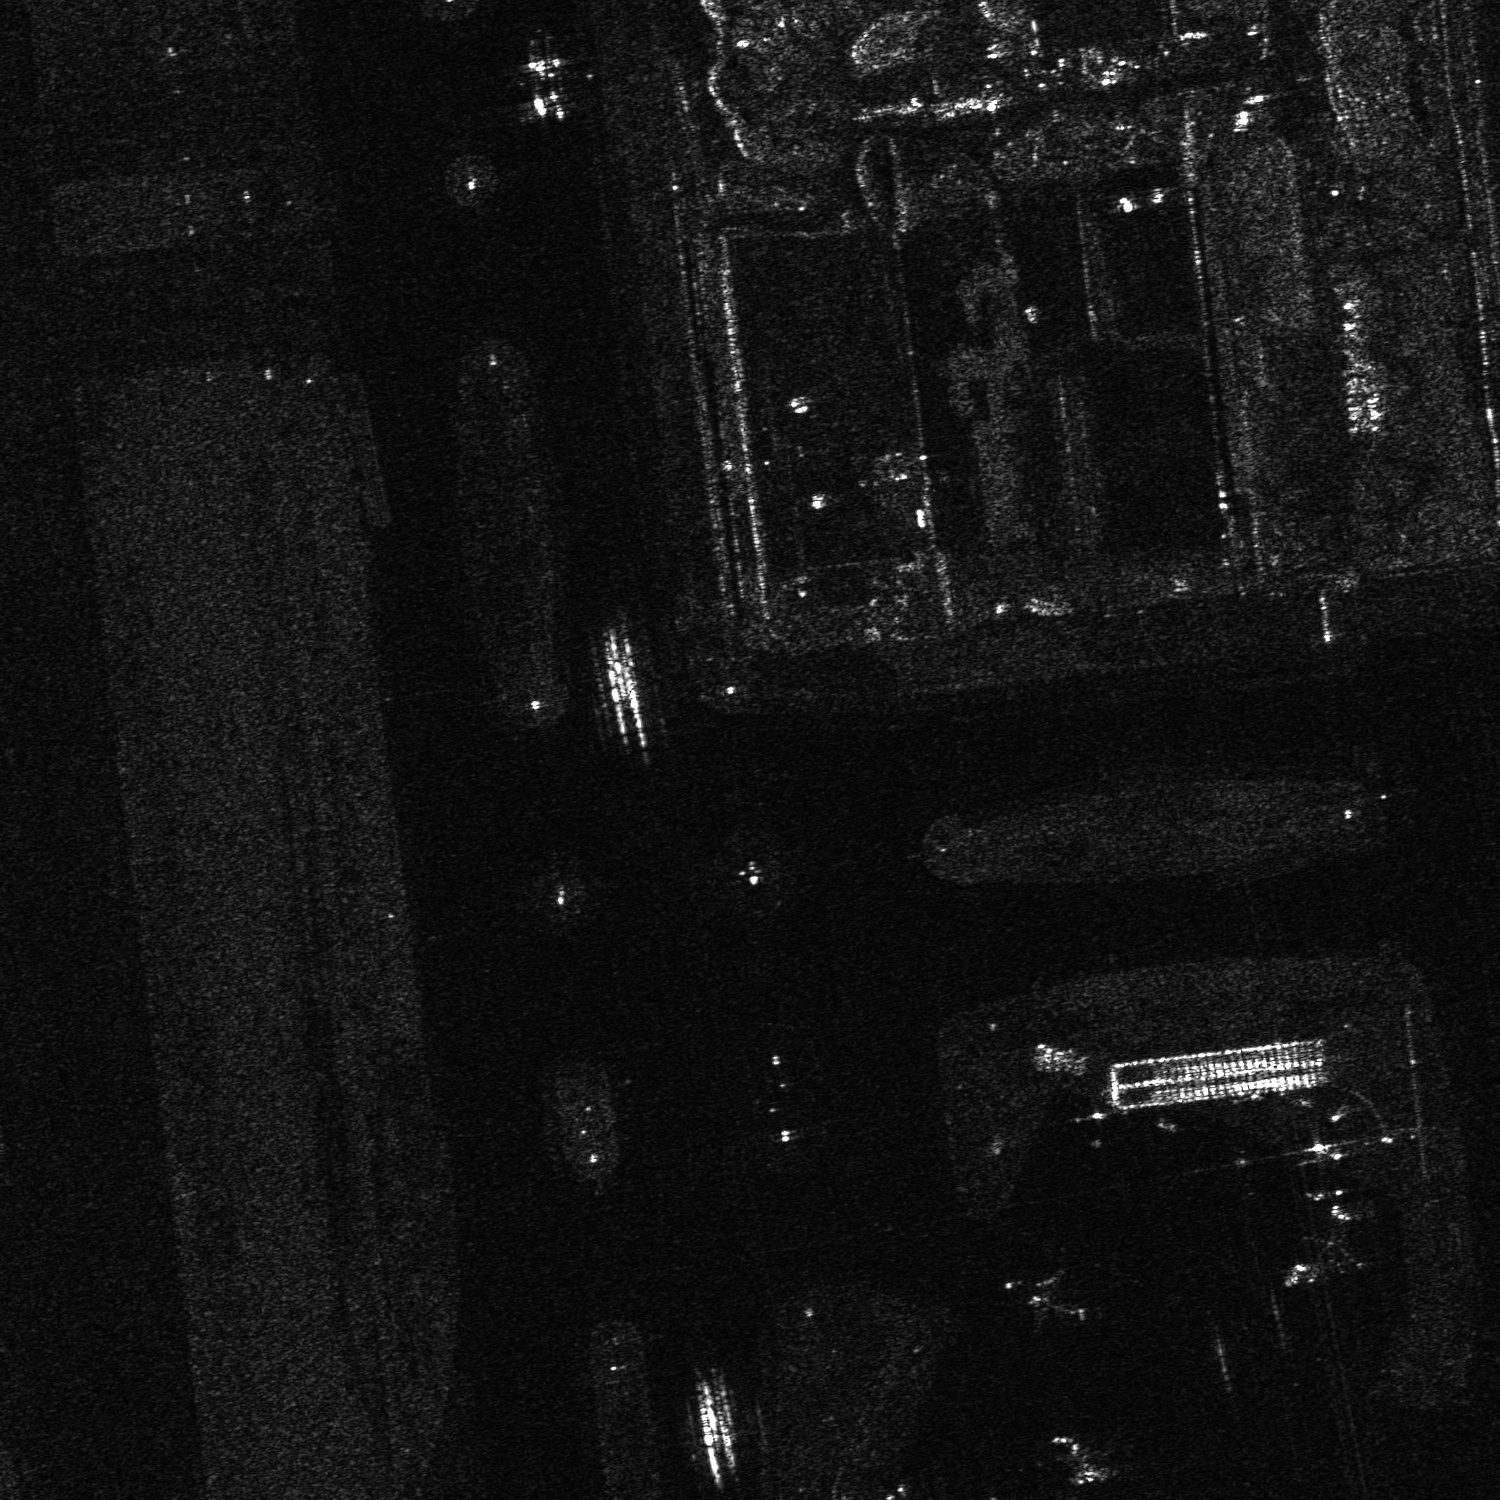Boeing787: (1288, 1202, 1370, 1286)
other: (1003, 1266, 1088, 1338)
